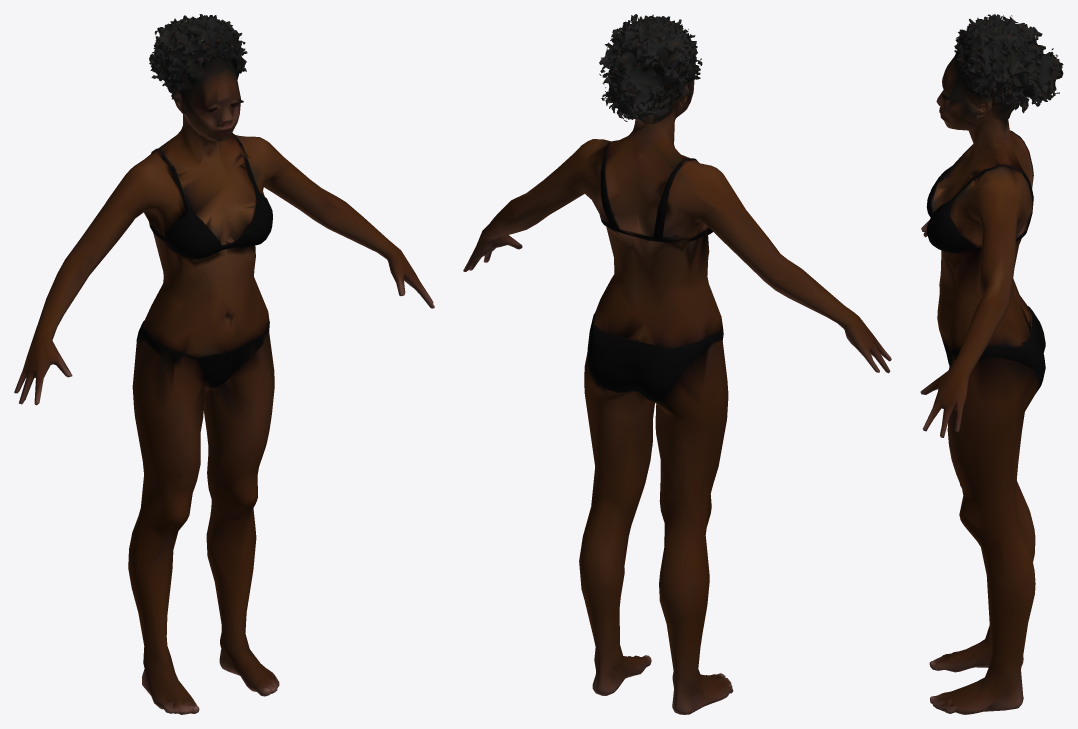
Rendered from 3d_male_model_LOD0.glb.
The picture shows the model from 3 angles, left to right: view 1: azimuth 30°, elevation 25°; view 2: azimuth 150°, elevation 25°; view 3: azimuth 270°, elevation 25°; orthographic projection.
Parts seen in each view (by area): view 1: geometry_0; view 2: geometry_0; view 3: geometry_0.
Part boxes in pixels (x1,y1,x2,y2): geometry_0: (14, 14, 434, 714); geometry_0: (463, 14, 891, 714); geometry_0: (920, 14, 1063, 714).
Size of the model in its own units: 0.6495 by 0.9975 by 0.1937.
